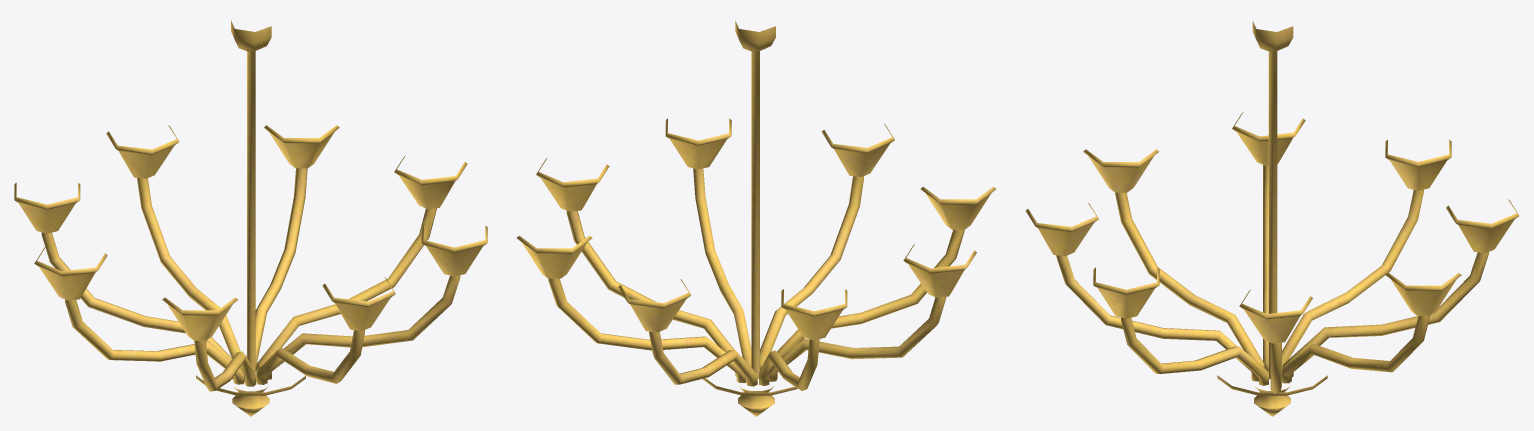
File: chandelier.glb
3 renders of one model, left to right at view 1: azimuth 30°, elevation 25°; view 2: azimuth 150°, elevation 25°; view 3: azimuth 270°, elevation 25°, orthographic.
Visible parts, largest first — view 1: Chandelier; view 2: Chandelier; view 3: Chandelier.
Part boxes in pixels (x1=…): Chandelier: x1=14, y1=20, x2=487, y2=416; Chandelier: x1=516, y1=20, x2=996, y2=416; Chandelier: x1=1025, y1=21, x2=1519, y2=416.
Bounding box in the file's own units: 0.7592 × 0.6683 × 0.7592.
Materials: 1 (1 with a texture image).
